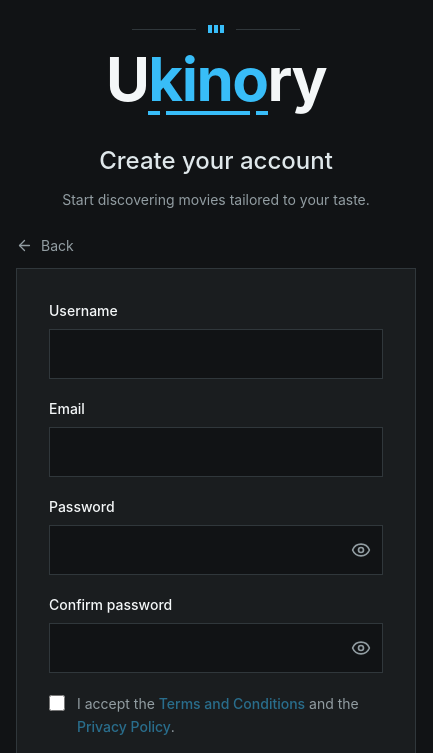
Test: RegisterScreen › shows a root error when submitting without legal documents
Type "cinema_user" into the field labelled "Username".
click(216, 354); type("cinema_user")  # box x1=49 y1=329 x2=383 y2=379
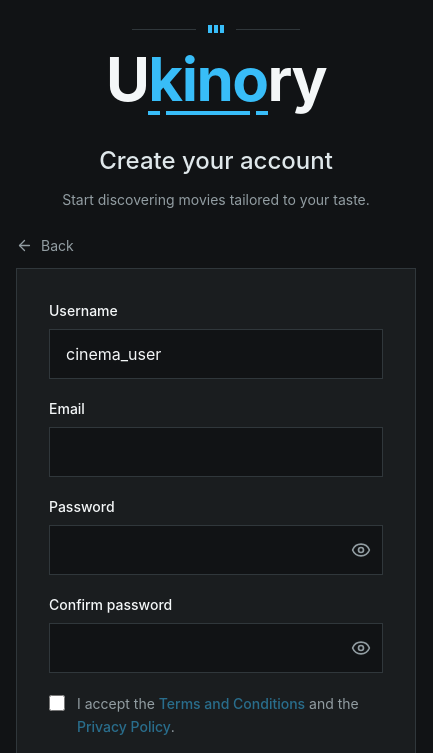
Type "cinema@example.com" into the field labelled "Email".
click(216, 452); type("cinema@example.com")  # box x1=49 y1=427 x2=383 y2=477
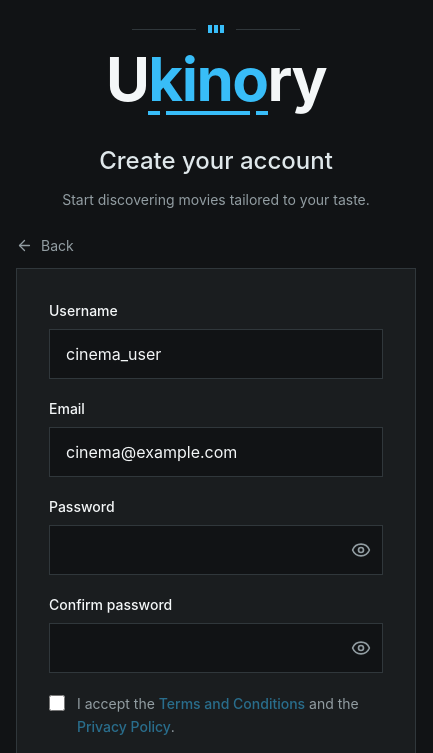
Type "StrongPassword123!" into the password field labelled "Password".
click(216, 550); type("StrongPassword123!")  # box x1=49 y1=525 x2=383 y2=575
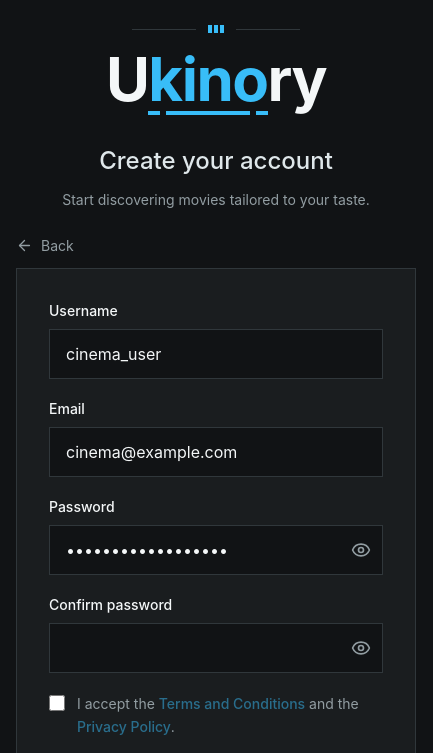
Type "StrongPassword123!" into the password field labelled "Confirm password".
click(216, 648); type("StrongPassword123!")  # box x1=49 y1=623 x2=383 y2=673
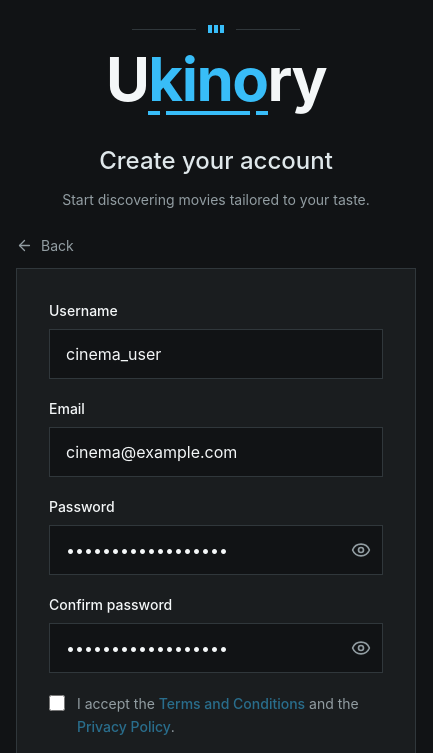
Click the checkbox labelled "I accept the Terms and Conditions and the Privacy Policy .".
click(57, 703)  # box x1=49 y1=695 x2=65 y2=711
(page scrolled)
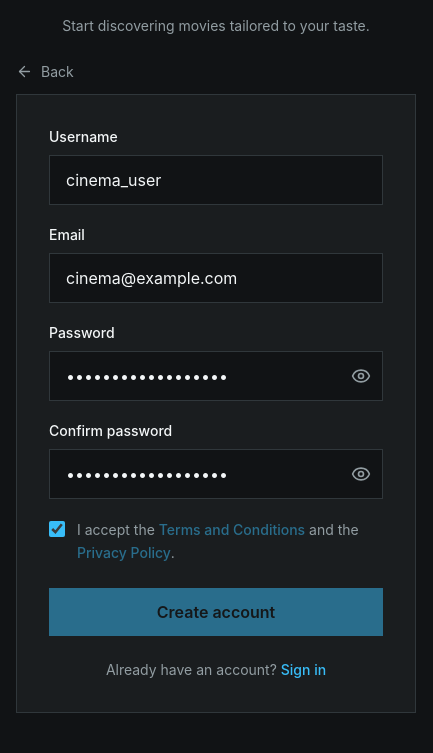
Submit the form
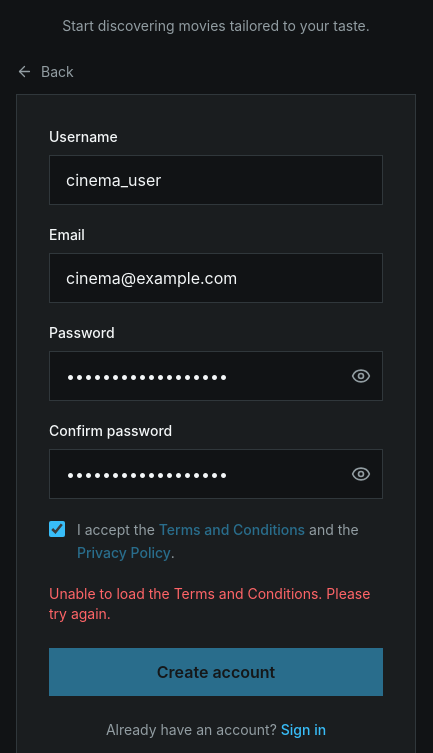
Check: the text "Unable to load the Terms and Conditions. Please try again." is shown, box x1=49 y1=584 x2=383 y2=624
